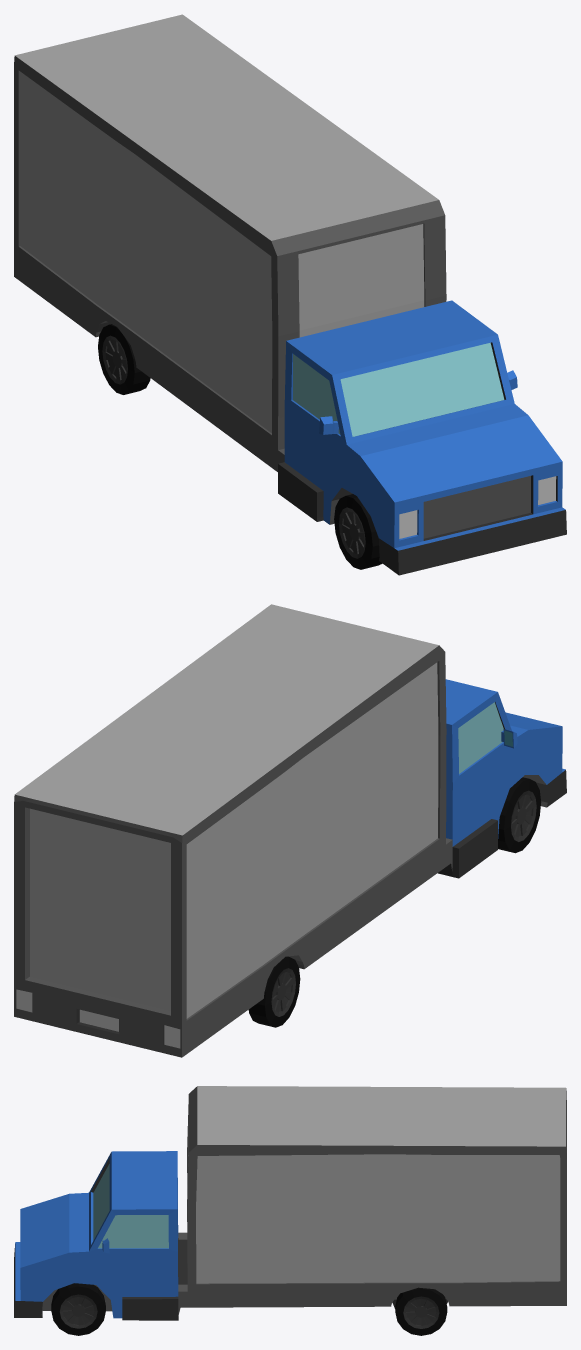
File: truck.fbx
3 renders of one model, top to bottom at view 1: azimuth 30°, elevation 25°; view 2: azimuth 150°, elevation 25°; view 3: azimuth 270°, elevation 25°, orthographic. The views are drawn at different scales.
Parts seen in each view (by area): view 1: Cube_012, Cube_010, Cube_011, Cube_014, Cube_008, Wheel_001, Wheel_004, Cube_009; view 2: Cube_012, Cube_004, Cube_011, Cube_003, Cube_010, Wheel_001, Wheel_004, Cube_008, Cube_014, Cube_002, Cube, Cube_001; view 3: Cube_012, Cube_010, Cube_011, Cube_014, Wheel_003, Wheel_002, Cube_008, Cube_001.
Part boxes in pixels (x1=…): Cube_012: x1=15, y1=14, x2=438, y2=432; Cube_010: x1=284, y1=300, x2=565, y2=550; Cube_011: x1=14, y1=56, x2=530, y2=538; Cube_014: x1=293, y1=342, x2=504, y2=436; Cube_008: x1=278, y1=462, x2=566, y2=575; Wheel_001: x1=334, y1=494, x2=382, y2=569; Wheel_004: x1=98, y1=324, x2=150, y2=394; Cube_009: x1=399, y1=476, x2=556, y2=538; Cube_012: x1=15, y1=604, x2=438, y2=1018; Cube_004: x1=30, y1=808, x2=170, y2=1010; Cube_011: x1=182, y1=645, x2=524, y2=1057; Cube_003: x1=14, y1=775, x2=547, y2=1057; Cube_010: x1=445, y1=679, x2=565, y2=846; Wheel_001: x1=498, y1=777, x2=541, y2=853; Wheel_004: x1=248, y1=956, x2=300, y2=1027; Cube_008: x1=452, y1=770, x2=566, y2=878; Cube_014: x1=458, y1=702, x2=503, y2=773; Cube_002: x1=17, y1=702, x2=504, y2=1055; Cube: x1=15, y1=989, x2=180, y2=1049; Cube_001: x1=76, y1=873, x2=458, y2=1034; Cube_012: x1=188, y1=1086, x2=565, y2=1283; Cube_010: x1=15, y1=1151, x2=178, y2=1318; Cube_011: x1=42, y1=1086, x2=566, y2=1315; Cube_014: x1=93, y1=1164, x2=168, y2=1248; Wheel_003: x1=51, y1=1283, x2=105, y2=1335; Wheel_002: x1=395, y1=1287, x2=447, y2=1335; Cube_008: x1=14, y1=1238, x2=178, y2=1320; Cube_001: x1=178, y1=1239, x2=187, y2=1318.
Size of the model in its own units: 1.31 by 1.71 by 4.48.
